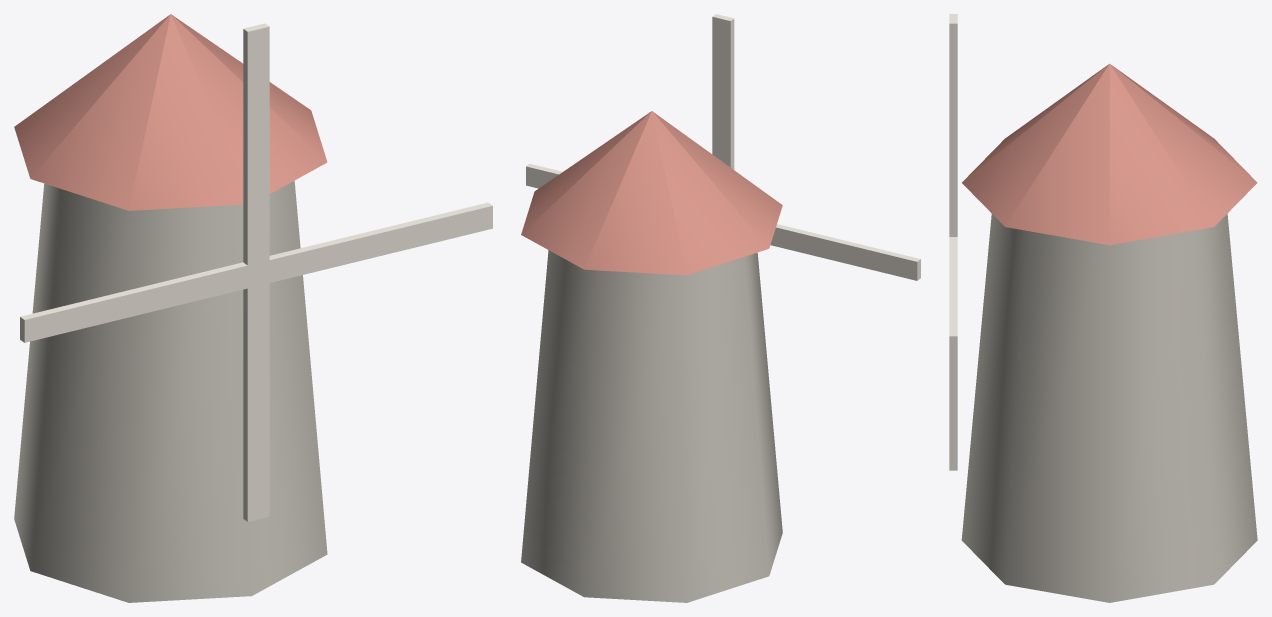
The model's file is windmill.glb.
3 views of the same model, side by side, from view 1: azimuth 30°, elevation 25°; view 2: azimuth 150°, elevation 25°; view 3: azimuth 270°, elevation 25° (orthographic). The views are drawn at different scales.
Visible parts, largest first — view 1: windmill, bladesPiv; view 2: windmill, bladesPiv; view 3: windmill, bladesPiv.
Part boxes in pixels (x1,y1,x2,y2): windmill: (14, 14, 327, 602); bladesPiv: (20, 23, 492, 521); windmill: (521, 111, 782, 602); bladesPiv: (526, 14, 920, 280); windmill: (961, 63, 1257, 602); bladesPiv: (949, 14, 957, 470).
Size of the model in its own units: 3 by 3.5 by 1.87.
